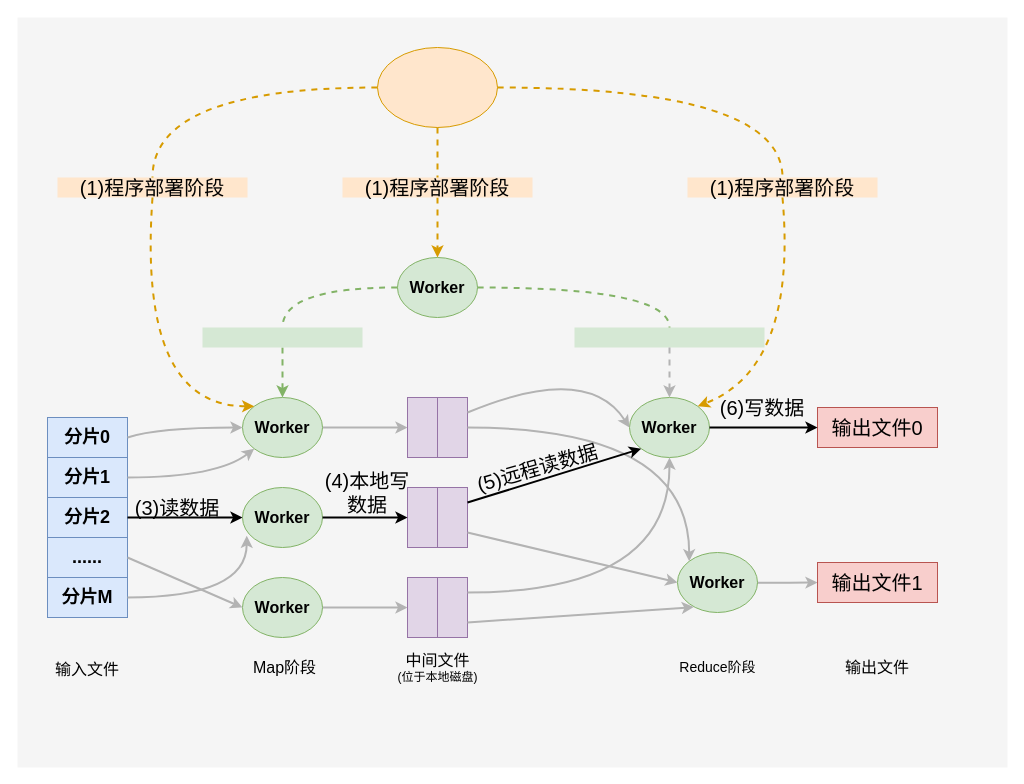
The diagram is 1024 pixels wide and 784 high, and some of its shapes have lost their labels. The centre of each missing label's shape, as x and y in pixels:
"(2)分配Map任务" belongs at [282,337].
"(2)分配Reduce任务" belongs at [669,337].
"用户程序" belongs at [437,87].
